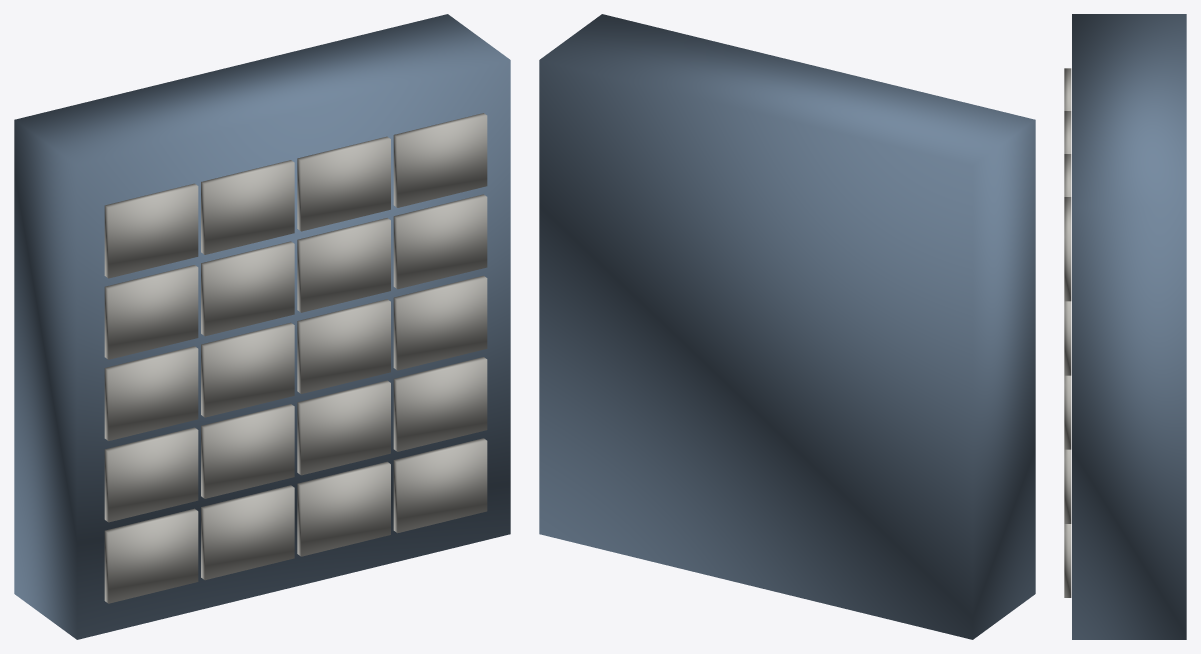
File: parcel_locker__wide.glb
3 renders of one model, left to right at view 1: azimuth 30°, elevation 25°; view 2: azimuth 150°, elevation 25°; view 3: azimuth 270°, elevation 25°, orthographic. The views are drawn at different scales.
Visible parts, largest first — view 1: world; view 2: world; view 3: world.
Part boxes in pixels (x1,y1,x2,y2): world: [14, 14, 510, 639]; world: [539, 14, 1035, 639]; world: [1064, 14, 1186, 639].
Bounding box in the file's own units: 1.67 × 1.75 × 0.4475.
